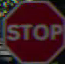Stop: (4, 4, 61, 55)
